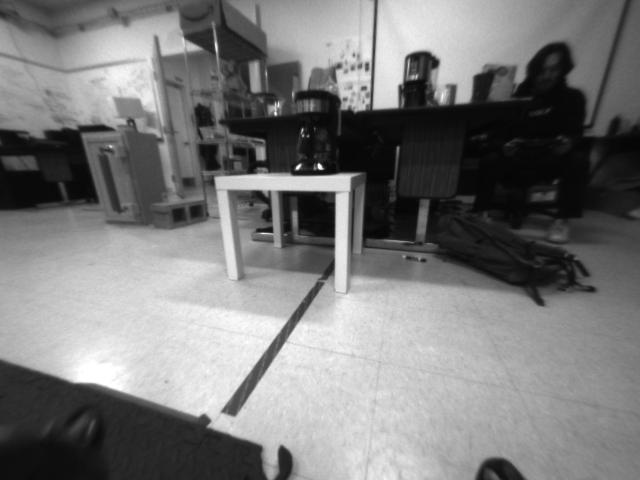coffee_pot: (287, 89, 346, 179)
